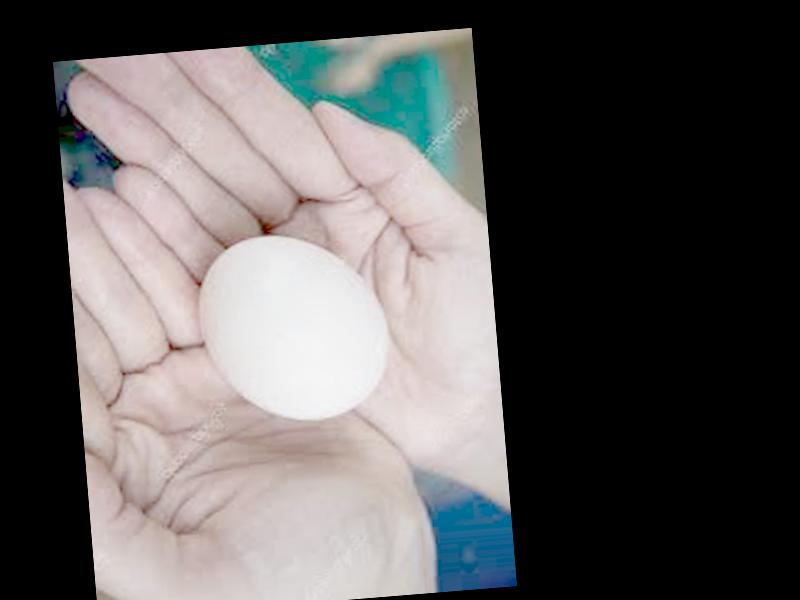Eggs: (198, 227, 389, 426)
